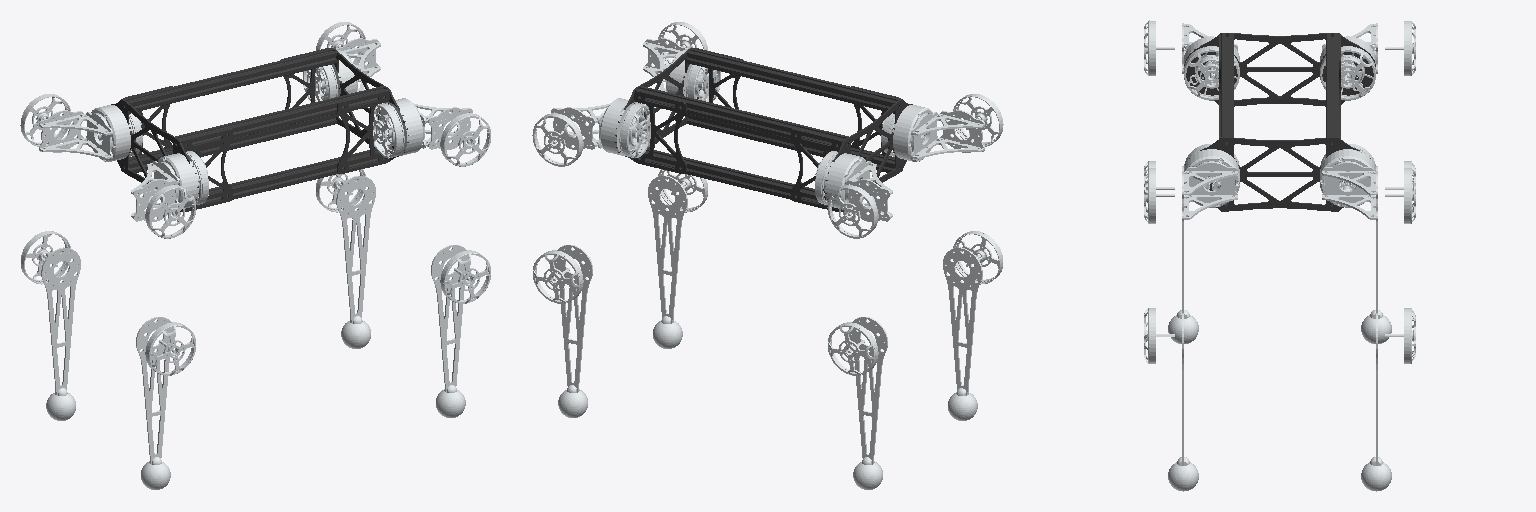
URDF robot description (blue_description):
<?xml version="1.0" ?>
<!-- =================================================================================== -->
<!-- |    This document was autogenerated by xacro from jelly.urdf.xacro               | -->
<!-- |    EDITING THIS FILE BY HAND IS NOT RECOMMENDED                                 | -->
<!-- =================================================================================== -->
<robot name="blue_description" xmlns:xacro="http://ros.org/wiki/xacro">
  <!-- <xacro:arg name="is_gazebo" default="false" /> -->
  <!-- <xacro:property name="is_gazebo" value="$(arg is_gazebo)" /> -->
  <link name="base_link">
    <inertial>
      <origin rpy="0 0 0" xyz="1.3878E-16 7.5298E-19 -0.00024739"/>
      <mass value="1.4036"/>
      <inertia ixx="0.010824" ixy="-3.2526E-18" ixz="8.8557E-19" iyy="0.019805" iyz="9.2004E-19" izz="0.025106"/>
    </inertial>
    <visual>
      <origin rpy="0 0 0" xyz="0 0 0"/>
      <geometry>
        <mesh filename="package://jelly_descriptions/meshes/base_link.dae"/>
      </geometry>
      <material name="">
        <color rgba="0.29804 0.29765 0.29941 1"/>
      </material>
    </visual>
    <collision>
      <origin rpy="0 0 0" xyz="0 0 0"/>
      <geometry>
        <mesh filename="package://jelly_descriptions/meshes/base_link.dae"/>
      </geometry>
    </collision>
  </link>
  <link name="FR_hip_link">
    <inertial>
      <origin rpy="0 0 0" xyz="-0.050171 -0.014879 2.5931E-05"/>
      <mass value="0.39719"/>
      <inertia ixx="0.0004047" ixy="0.00028697" ixz="2.6664E-07" iyy="0.00044289" iyz="-3.1906E-07" izz="0.00079608"/>
    </inertial>
    <visual>
      <origin rpy="0 0 0" xyz="0 0 0"/>
      <geometry>
        <mesh filename="package://jelly_descriptions/meshes/hip_link.dae"/>
      </geometry>
      <material name="">
        <color rgba="0.89804 0.91765 0.92941 1"/>
      </material>
    </visual>
    <collision>
      <origin rpy="0 0 0" xyz="0 0 0"/>
      <geometry>
        <mesh filename="package://jelly_descriptions/meshes/hip_link.dae"/>
      </geometry>
    </collision>
  </link>
  <joint name="FR_hip_joint" type="continuous">
    <origin rpy="0 0 0" xyz="0.28135 -0.11 0"/>
    <parent link="base_link"/>
    <child link="FR_hip_link"/>
    <axis xyz="1 0 0"/>
  </joint>
  <link name="FR_upper_leg_link">
    <inertial>
      <origin rpy="0 0 0" xyz="0.0002142 -0.021966 -0.12486"/>
      <mass value="0.6645"/>
      <inertia ixx="0.0067989" ixy="2.0009E-06" ixz="6.14E-07" iyy="0.0067314" iyz="1.4199E-06" izz="0.00018916"/>
    </inertial>
    <visual>
      <origin rpy="0 0 0" xyz="0 0 0"/>
      <geometry>
        <mesh filename="package://jelly_descriptions/meshes/upper_leg_link.dae"/>
      </geometry>
      <material name="">
        <color rgba="0.19804 0.11765 0.12941 1"/>
      </material>
    </visual>
    <collision>
      <origin rpy="0 0 0" xyz="0 0 0"/>
      <geometry>
        <mesh filename="package://jelly_descriptions/meshes/upper_leg_link.dae"/>
      </geometry>
    </collision>
  </link>
  <joint name="FR_upper_leg_joint" type="continuous">
    <origin rpy="0 0 0" xyz="0 -0.046 0"/>
    <parent link="FR_hip_link"/>
    <child link="FR_upper_leg_link"/>
    <axis xyz="0 1 0"/>
  </joint>
  <link name="FR_lower_leg_link">
    <inertial>
      <origin rpy="0 0 0" xyz="-1.4945E-06 -0.011905 -0.12333"/>
      <mass value="0.17273"/>
      <inertia ixx="0.0018547" ixy="-6.8019E-09" ixz="3.1812E-08" iyy="0.0017651" iyz="0.00025365" izz="8.9626E-05"/>
    </inertial>
    <visual>
      <origin rpy="0 0 0" xyz="0 0 0"/>
      <geometry>
        <mesh filename="package://jelly_descriptions/meshes/lower_leg_link.dae"/>
      </geometry>
      <material name="">
        <color rgba="0.89804 0.91765 0.92941 1"/>
      </material>
    </visual>
    <collision>
      <origin rpy="0 0 0" xyz="0 0 0"/>
      <geometry>
        <mesh filename="package://jelly_descriptions/meshes/lower_leg_link.dae"/>
      </geometry>
    </collision>
  </link>
  <joint name="FR_lower_leg_joint" type="continuous">
    <origin rpy="0 0 0" xyz="0 0 -0.25"/>
    <parent link="FR_upper_leg_link"/>
    <child link="FR_lower_leg_link"/>
    <axis xyz="0 1 0"/>
  </joint>
  <link name="FR_foot_link"/>
  <joint name="FR_foot_joint" type="fixed">
    <origin rpy="0 0 0" xyz="0 0 -0.25116"/>
    <parent link="FR_lower_leg_link"/>
    <child link="FR_foot_link"/>
    <axis xyz="0 0 0"/>
  </joint>
  <link name="FL_hip_link">
    <inertial>
      <origin rpy="3.1415926535 0 0" xyz="-0.050171 -0.014879 2.5931E-05"/>
      <mass value="0.39719"/>
      <inertia ixx="0.0004047" ixy="0.00028697" ixz="2.6664E-07" iyy="0.00044289" iyz="-3.1906E-07" izz="0.00079608"/>
    </inertial>
    <visual>
      <origin rpy="3.1415926535 0 0" xyz="0 0 0"/>
      <geometry>
        <mesh filename="package://jelly_descriptions/meshes/hip_link.dae"/>
      </geometry>
      <material name="">
        <color rgba="0.89804 0.91765 0.92941 1"/>
      </material>
    </visual>
    <collision>
      <origin rpy="0 0 0" xyz="3.1415926535 0 0"/>
      <geometry>
        <mesh filename="package://jelly_descriptions/meshes/hip_link.dae"/>
      </geometry>
    </collision>
  </link>
  <joint name="FL_hip_joint" type="continuous">
    <origin rpy="0 0 0" xyz="0.28135 0.11 0"/>
    <parent link="base_link"/>
    <child link="FL_hip_link"/>
    <axis xyz="1 0 0"/>
  </joint>
  <link name="FL_upper_leg_link">
    <inertial>
      <origin rpy="0 0 3.1415926535" xyz="0.0002142 -0.021966 -0.12486"/>
      <mass value="0.6645"/>
      <inertia ixx="0.0067989" ixy="2.0009E-06" ixz="6.14E-07" iyy="0.0067314" iyz="1.4199E-06" izz="0.00018916"/>
    </inertial>
    <visual>
      <origin rpy="0 0 3.1415926535" xyz="0 0 0"/>
      <geometry>
        <mesh filename="package://jelly_descriptions/meshes/upper_leg_link.dae"/>
      </geometry>
      <material name="">
        <color rgba="0.19804 0.11765 0.12941 1"/>
      </material>
    </visual>
    <collision>
      <origin rpy="0 0 3.1415926535" xyz="0 0 0"/>
      <geometry>
        <mesh filename="package://jelly_descriptions/meshes/upper_leg_link.dae"/>
      </geometry>
    </collision>
  </link>
  <joint name="FL_upper_leg_joint" type="continuous">
    <origin rpy="0 0 0" xyz="0 0.046 0"/>
    <parent link="FL_hip_link"/>
    <child link="FL_upper_leg_link"/>
    <axis xyz="0 1 0"/>
  </joint>
  <link name="FL_lower_leg_link">
    <inertial>
      <origin rpy="0 0 3.1415926535" xyz="-1.4945E-06 -0.011905 -0.12333"/>
      <mass value="0.17273"/>
      <inertia ixx="0.0018547" ixy="-6.8019E-09" ixz="3.1812E-08" iyy="0.0017651" iyz="0.00025365" izz="8.9626E-05"/>
    </inertial>
    <visual>
      <origin rpy="0 0 3.1415926535" xyz="0 0 0"/>
      <geometry>
        <mesh filename="package://jelly_descriptions/meshes/lower_leg_link.dae"/>
      </geometry>
      <material name="">
        <color rgba="0.89804 0.91765 0.92941 1"/>
      </material>
    </visual>
    <collision>
      <origin rpy="0 0 3.1415926535" xyz="0 0 0"/>
      <geometry>
        <mesh filename="package://jelly_descriptions/meshes/lower_leg_link.dae"/>
      </geometry>
    </collision>
  </link>
  <joint name="FL_lower_leg_joint" type="continuous">
    <origin rpy="0 0 0" xyz="0 0 -0.25"/>
    <parent link="FL_upper_leg_link"/>
    <child link="FL_lower_leg_link"/>
    <axis xyz="0 1 0"/>
  </joint>
  <link name="FL_foot_link"/>
  <joint name="FL_foot_joint" type="fixed">
    <origin rpy="0 0 0" xyz="0 0 -0.25116"/>
    <parent link="FL_lower_leg_link"/>
    <child link="FL_foot_link"/>
    <axis xyz="0 0 0"/>
  </joint>
  <link name="RR_hip_link">
    <inertial>
      <origin rpy="3.1415926535 0 3.1415926535" xyz="-0.050171 -0.014879 2.5931E-05"/>
      <mass value="0.39719"/>
      <inertia ixx="0.0004047" ixy="0.00028697" ixz="2.6664E-07" iyy="0.00044289" iyz="-3.1906E-07" izz="0.00079608"/>
    </inertial>
    <visual>
      <origin rpy="3.1415926535 0 3.1415926535" xyz="0 0 0"/>
      <geometry>
        <mesh filename="package://jelly_descriptions/meshes/hip_link.dae"/>
      </geometry>
      <material name="">
        <color rgba="0.89804 0.91765 0.92941 1"/>
      </material>
    </visual>
    <collision>
      <origin rpy="0 0 0" xyz="3.1415926535 0 3.1415926535"/>
      <geometry>
        <mesh filename="package://jelly_descriptions/meshes/hip_link.dae"/>
      </geometry>
    </collision>
  </link>
  <joint name="RR_hip_joint" type="continuous">
    <origin rpy="0 0 0" xyz="-0.28135 -0.11 0"/>
    <parent link="base_link"/>
    <child link="RR_hip_link"/>
    <axis xyz="1 0 0"/>
  </joint>
  <link name="RR_upper_leg_link">
    <inertial>
      <origin rpy="0 0 0" xyz="0.0002142 -0.021966 -0.12486"/>
      <mass value="0.6645"/>
      <inertia ixx="0.0067989" ixy="2.0009E-06" ixz="6.14E-07" iyy="0.0067314" iyz="1.4199E-06" izz="0.00018916"/>
    </inertial>
    <visual>
      <origin rpy="0 0 0" xyz="0 0 0"/>
      <geometry>
        <mesh filename="package://jelly_descriptions/meshes/upper_leg_link.dae"/>
      </geometry>
      <material name="">
        <color rgba="0.19804 0.11765 0.12941 1"/>
      </material>
    </visual>
    <collision>
      <origin rpy="0 0 0" xyz="0 0 0"/>
      <geometry>
        <mesh filename="package://jelly_descriptions/meshes/upper_leg_link.dae"/>
      </geometry>
    </collision>
  </link>
  <joint name="RR_upper_leg_joint" type="continuous">
    <origin rpy="0 0 0" xyz="0 -0.046 0"/>
    <parent link="RR_hip_link"/>
    <child link="RR_upper_leg_link"/>
    <axis xyz="0 1 0"/>
  </joint>
  <link name="RR_lower_leg_link">
    <inertial>
      <origin rpy="0 0 0" xyz="-1.4945E-06 -0.011905 -0.12333"/>
      <mass value="0.17273"/>
      <inertia ixx="0.0018547" ixy="-6.8019E-09" ixz="3.1812E-08" iyy="0.0017651" iyz="0.00025365" izz="8.9626E-05"/>
    </inertial>
    <visual>
      <origin rpy="0 0 0" xyz="0 0 0"/>
      <geometry>
        <mesh filename="package://jelly_descriptions/meshes/lower_leg_link.dae"/>
      </geometry>
      <material name="">
        <color rgba="0.89804 0.91765 0.92941 1"/>
      </material>
    </visual>
    <collision>
      <origin rpy="0 0 0" xyz="0 0 0"/>
      <geometry>
        <mesh filename="package://jelly_descriptions/meshes/lower_leg_link.dae"/>
      </geometry>
    </collision>
  </link>
  <joint name="RR_lower_leg_joint" type="continuous">
    <origin rpy="0 0 0" xyz="0 0 -0.25"/>
    <parent link="RR_upper_leg_link"/>
    <child link="RR_lower_leg_link"/>
    <axis xyz="0 1 0"/>
  </joint>
  <link name="RR_foot_link"/>
  <joint name="RR_foot_joint" type="fixed">
    <origin rpy="0 0 0" xyz="0 0 -0.25116"/>
    <parent link="RR_lower_leg_link"/>
    <child link="RR_foot_link"/>
    <axis xyz="0 0 0"/>
  </joint>
  <link name="RL_hip_link">
    <inertial>
      <origin rpy="0 0 3.1415926535" xyz="-0.050171 -0.014879 2.5931E-05"/>
      <mass value="0.39719"/>
      <inertia ixx="0.0004047" ixy="0.00028697" ixz="2.6664E-07" iyy="0.00044289" iyz="-3.1906E-07" izz="0.00079608"/>
    </inertial>
    <visual>
      <origin rpy="0 0 3.1415926535" xyz="0 0 0"/>
      <geometry>
        <mesh filename="package://jelly_descriptions/meshes/hip_link.dae"/>
      </geometry>
      <material name="">
        <color rgba="0.89804 0.91765 0.92941 1"/>
      </material>
    </visual>
    <collision>
      <origin rpy="0 0 0" xyz="0 0 3.1415926535"/>
      <geometry>
        <mesh filename="package://jelly_descriptions/meshes/hip_link.dae"/>
      </geometry>
    </collision>
  </link>
  <joint name="RL_hip_joint" type="continuous">
    <origin rpy="0 0 0" xyz="-0.28135 0.11 0"/>
    <parent link="base_link"/>
    <child link="RL_hip_link"/>
    <axis xyz="1 0 0"/>
  </joint>
  <link name="RL_upper_leg_link">
    <inertial>
      <origin rpy="0 0 3.1415926535" xyz="0.0002142 -0.021966 -0.12486"/>
      <mass value="0.6645"/>
      <inertia ixx="0.0067989" ixy="2.0009E-06" ixz="6.14E-07" iyy="0.0067314" iyz="1.4199E-06" izz="0.00018916"/>
    </inertial>
    <visual>
      <origin rpy="0 0 3.1415926535" xyz="0 0 0"/>
      <geometry>
        <mesh filename="package://jelly_descriptions/meshes/upper_leg_link.dae"/>
      </geometry>
      <material name="">
        <color rgba="0.19804 0.11765 0.12941 1"/>
      </material>
    </visual>
    <collision>
      <origin rpy="0 0 3.1415926535" xyz="0 0 0"/>
      <geometry>
        <mesh filename="package://jelly_descriptions/meshes/upper_leg_link.dae"/>
      </geometry>
    </collision>
  </link>
  <joint name="RL_upper_leg_joint" type="continuous">
    <origin rpy="0 0 0" xyz="0 0.046 0"/>
    <parent link="RL_hip_link"/>
    <child link="RL_upper_leg_link"/>
    <axis xyz="0 1 0"/>
  </joint>
  <link name="RL_lower_leg_link">
    <inertial>
      <origin rpy="0 0 3.1415926535" xyz="-1.4945E-06 -0.011905 -0.12333"/>
      <mass value="0.17273"/>
      <inertia ixx="0.0018547" ixy="-6.8019E-09" ixz="3.1812E-08" iyy="0.0017651" iyz="0.00025365" izz="8.9626E-05"/>
    </inertial>
    <visual>
      <origin rpy="0 0 3.1415926535" xyz="0 0 0"/>
      <geometry>
        <mesh filename="package://jelly_descriptions/meshes/lower_leg_link.dae"/>
      </geometry>
      <material name="">
        <color rgba="0.89804 0.91765 0.92941 1"/>
      </material>
    </visual>
    <collision>
      <origin rpy="0 0 3.1415926535" xyz="0 0 0"/>
      <geometry>
        <mesh filename="package://jelly_descriptions/meshes/lower_leg_link.dae"/>
      </geometry>
    </collision>
  </link>
  <joint name="RL_lower_leg_joint" type="continuous">
    <origin rpy="0 0 0" xyz="0 0 -0.25"/>
    <parent link="RL_upper_leg_link"/>
    <child link="RL_lower_leg_link"/>
    <axis xyz="0 1 0"/>
  </joint>
  <link name="RL_foot_link"/>
  <joint name="RL_foot_joint" type="fixed">
    <origin rpy="0 0 0" xyz="0 0 -0.25116"/>
    <parent link="RL_lower_leg_link"/>
    <child link="RL_foot_link"/>
    <axis xyz="0 0 0"/>
  </joint>
  <!-- <xacro:if value="${is_gazebo}"> -->
  <!-- <gazebo> -->
  <!-- <plugin -->
  <!-- name="gazebo_ros_control" -->
  <!-- filename="libgazebo_ros_control.so"> -->
  <!-- <robotNamespace>/right_arm</robotNamespace> -->
  <!-- </plugin> -->
  <!-- </gazebo> -->
  <!-- </xacro:if> -->
</robot>

--- Facts derived from the render (not from the file) ---
Views: 3 orthographic renders of the robot side by side, from view 1: azimuth 30°, elevation 25°; view 2: azimuth 150°, elevation 25°; view 3: azimuth 270°, elevation 25°.
Model blue_description with 17 links and 16 joints (12 continuous, 4 fixed), rooted at base_link, posed every joint at zero.
Visible links, largest first — view 1: base_link, FR_hip_link, RL_hip_link, RR_hip_link, RL_lower_leg_link, FR_lower_leg_link, RR_lower_leg_link, FL_lower_leg_link, FL_hip_link; view 2: base_link, FL_hip_link, RR_hip_link, RL_hip_link, RR_lower_leg_link, FL_lower_leg_link, RL_lower_leg_link, FR_lower_leg_link, FR_hip_link; view 3: base_link, FL_hip_link, FR_hip_link, RR_hip_link, RL_hip_link, FL_lower_leg_link, FR_lower_leg_link, RL_lower_leg_link, RR_lower_leg_link.
Boxes of the visible links, box(x1,y1,x2,y2) form: base_link: box(111, 48, 408, 211); FR_hip_link: box(373, 98, 490, 166); RL_hip_link: box(20, 94, 142, 161); RR_hip_link: box(131, 151, 208, 238); RL_lower_leg_link: box(21, 231, 80, 420); FR_lower_leg_link: box(431, 245, 490, 417); RR_lower_leg_link: box(136, 317, 195, 489); FL_lower_leg_link: box(316, 169, 375, 348); FL_hip_link: box(303, 22, 380, 101); base_link: box(615, 48, 912, 211); FL_hip_link: box(532, 98, 650, 166); RR_hip_link: box(881, 94, 1003, 161); RL_hip_link: box(815, 151, 892, 238); RR_lower_leg_link: box(943, 231, 1002, 420); FL_lower_leg_link: box(533, 245, 592, 417); RL_lower_leg_link: box(828, 317, 887, 489); FR_lower_leg_link: box(648, 169, 707, 348); FR_hip_link: box(643, 22, 720, 101); base_link: box(1184, 33, 1375, 211); FL_hip_link: box(1320, 144, 1415, 223); FR_hip_link: box(1144, 144, 1239, 223); RR_hip_link: box(1144, 20, 1239, 100); RL_hip_link: box(1320, 21, 1415, 100); FL_lower_leg_link: box(1361, 308, 1415, 491); FR_lower_leg_link: box(1144, 308, 1198, 491); RL_lower_leg_link: box(1361, 161, 1415, 343); RR_lower_leg_link: box(1144, 161, 1198, 343).
Size in the robot's own frame: 0.6532 by 0.4389 by 0.5905 metres.
9 mesh visuals loaded from 4 distinct referenced files (3 Collada DAE); not drawn: 4 (reference not matched to a file when rendering).